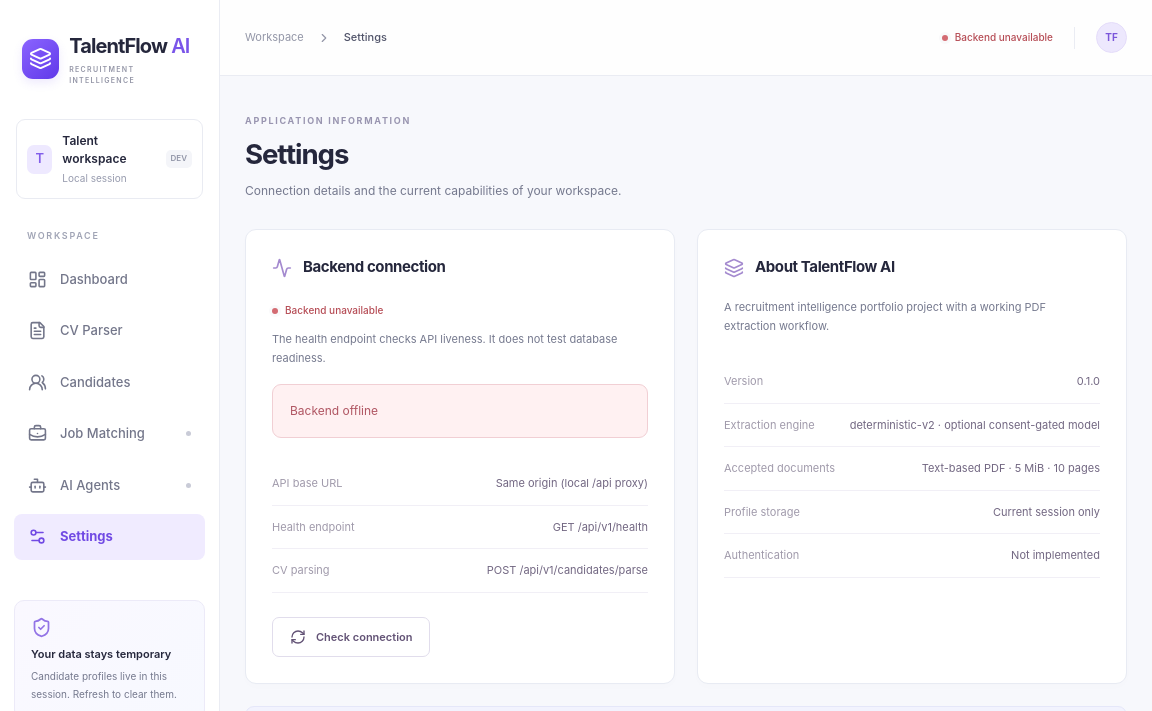
it: CV workflow › shows backend connectivity and honest planned modules
The image size is (1152, 711).
Expected: the message "Backend offline" is shown, [272, 384, 648, 438]
Click the button "Check connection". click: [351, 637]
box: [272, 617, 430, 657]
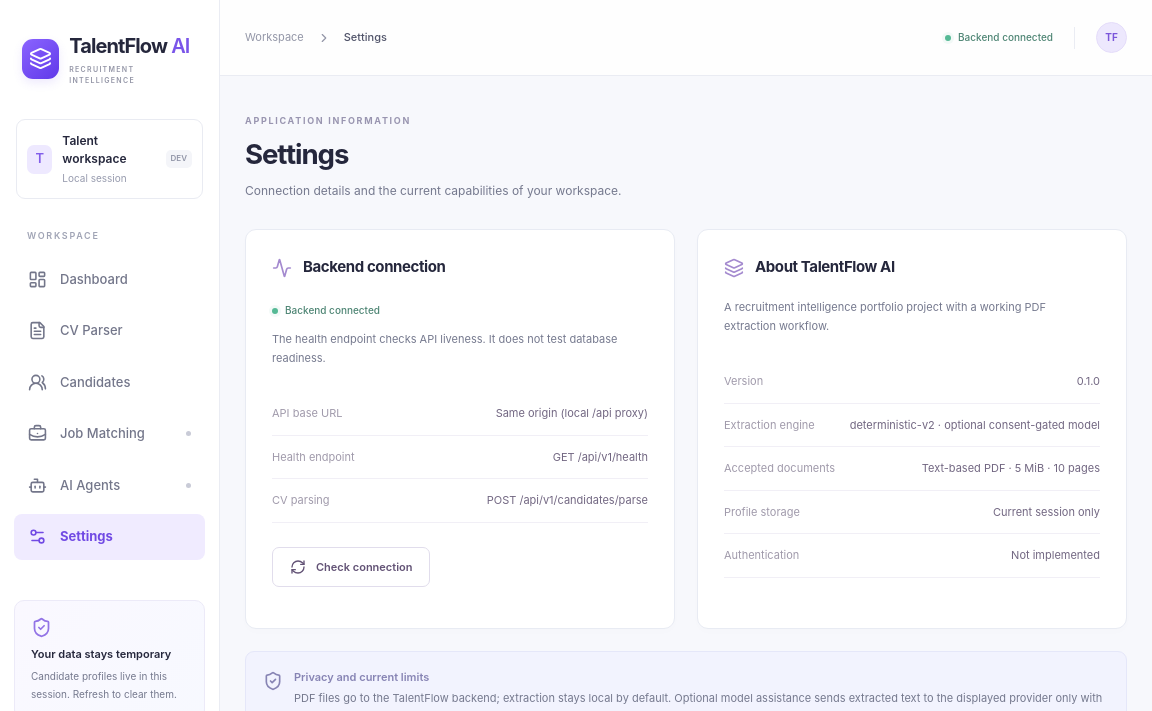
Expected: the text "Backend connected" is shown 2 times, [945, 30, 1053, 45]; [272, 303, 380, 318]
Click the link "Job Matching". click: [110, 434]
box: [28, 424, 191, 443]
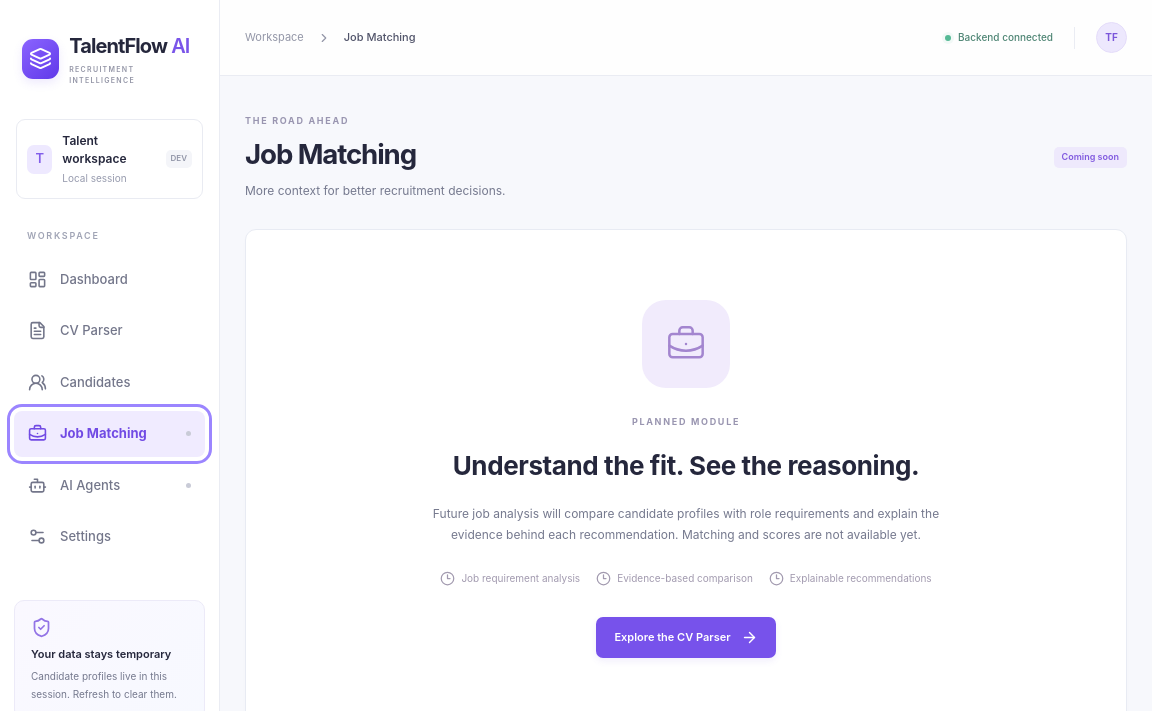
Expected: the text "Coming soon" is shown, [1054, 147, 1127, 168]
Expected: the text "Matching and scores are not available" is shown, [433, 506, 939, 542]
Click the link "AI Agents". click: [110, 485]
box: [28, 476, 191, 495]
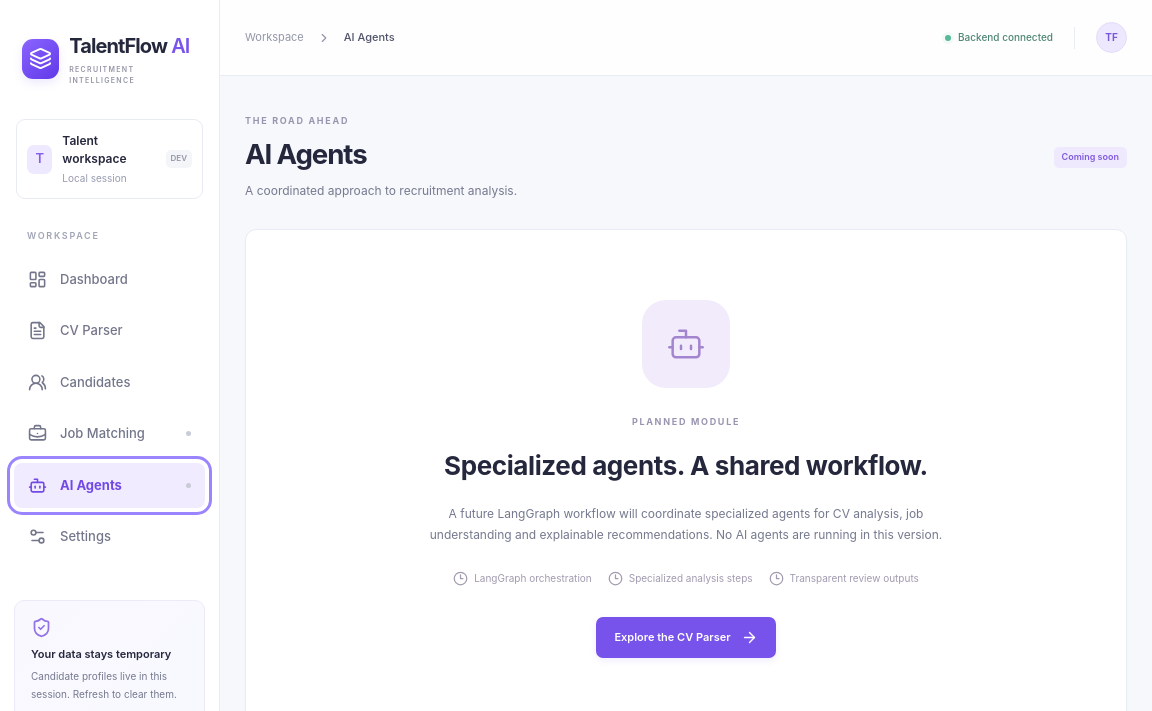
Expected: the text "No AI agents are running" is shown, [430, 506, 942, 542]
